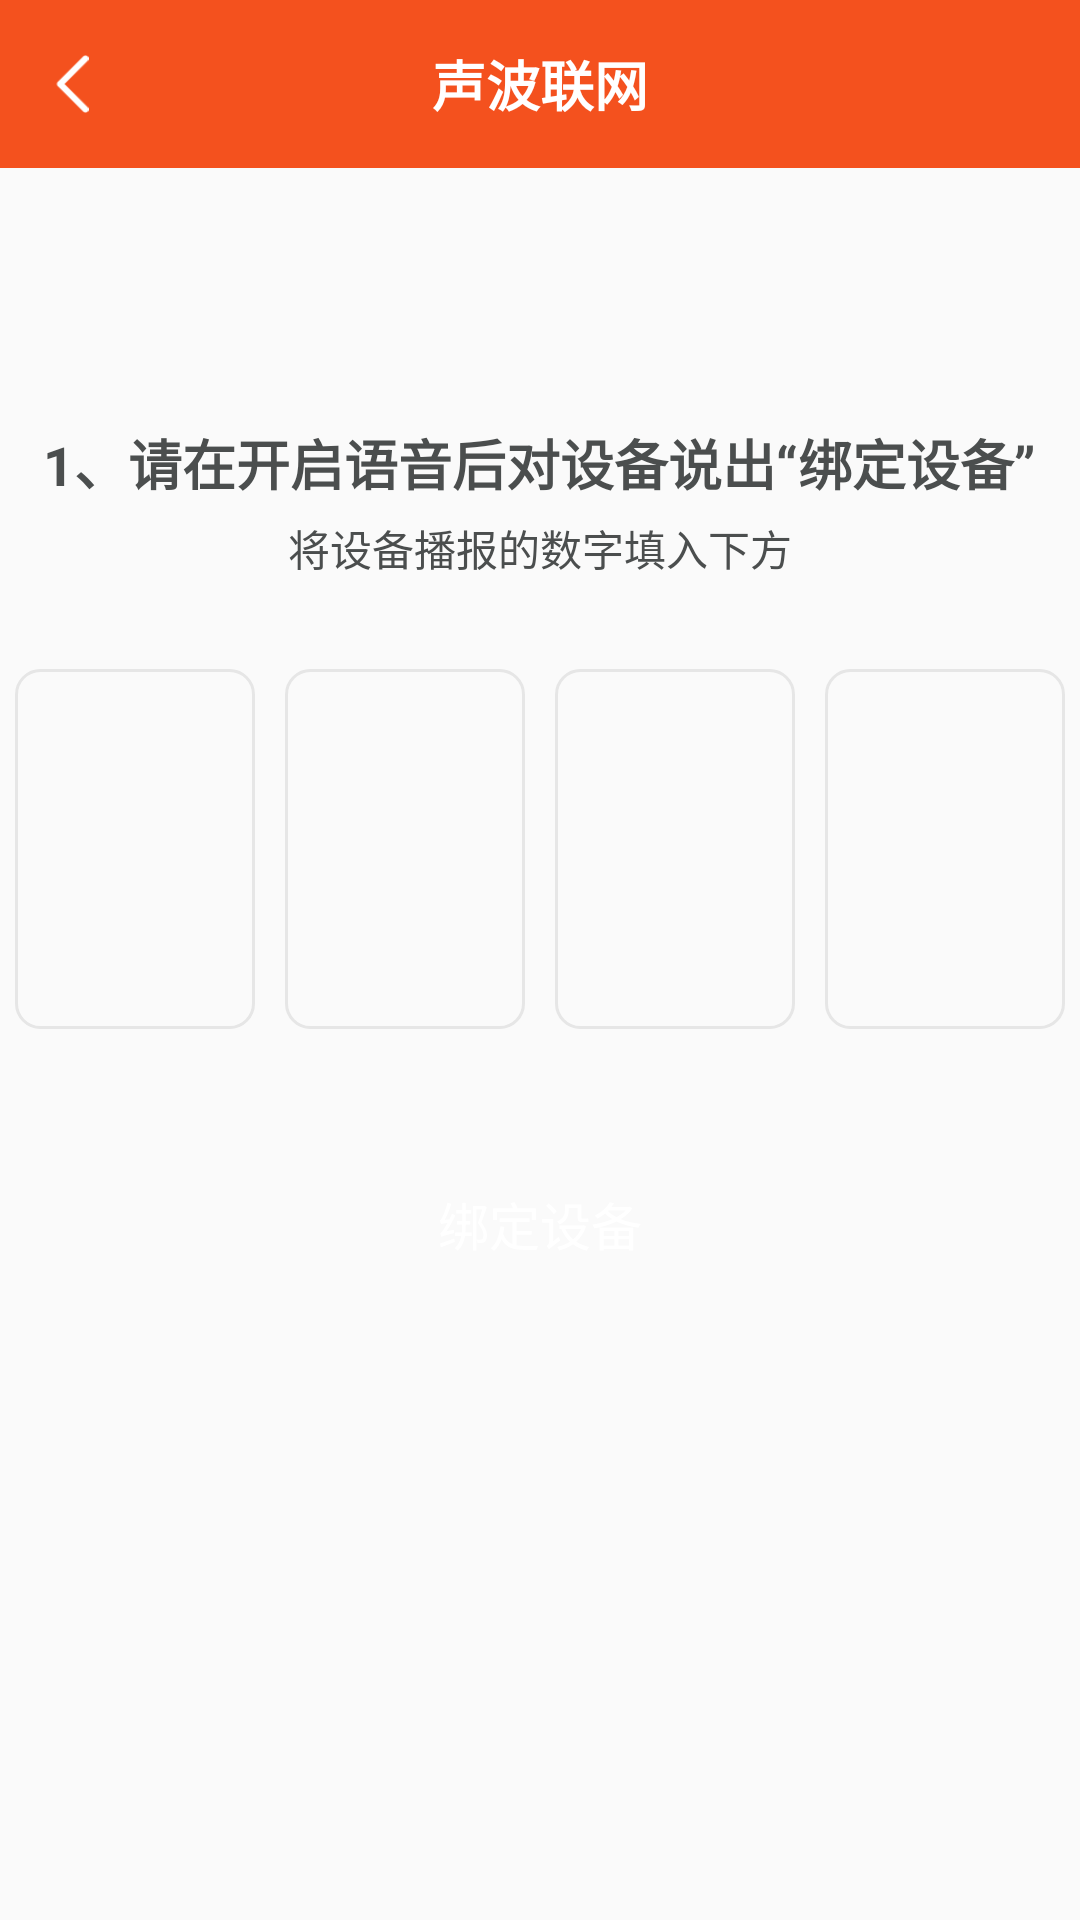

Icon bounding boxes for this 1080px×1920px phone screenshot, format (x1, y1, x2, y2):
fanhui: (56, 55, 89, 113)
